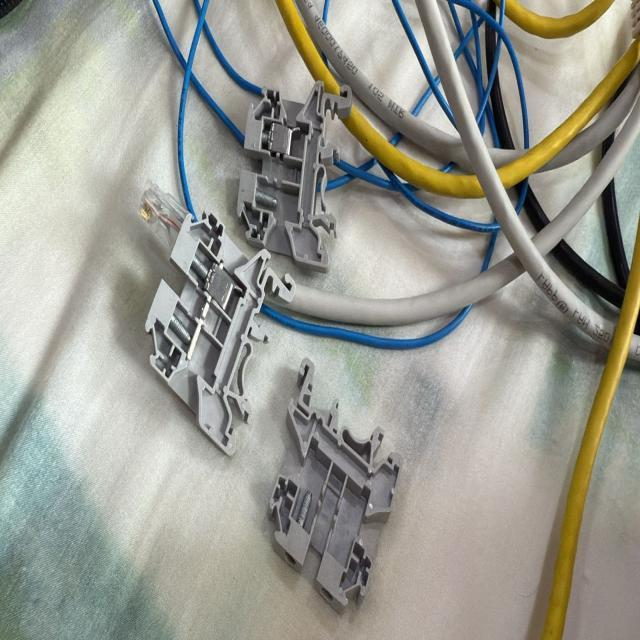Reject: (267, 353, 402, 613), (146, 217, 292, 446), (238, 81, 352, 262)
